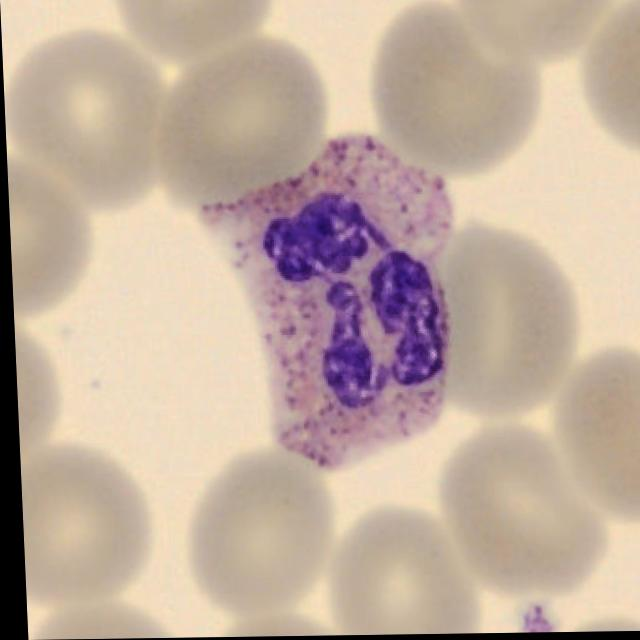Neutrofilo segmentado: (197, 135, 450, 472)
